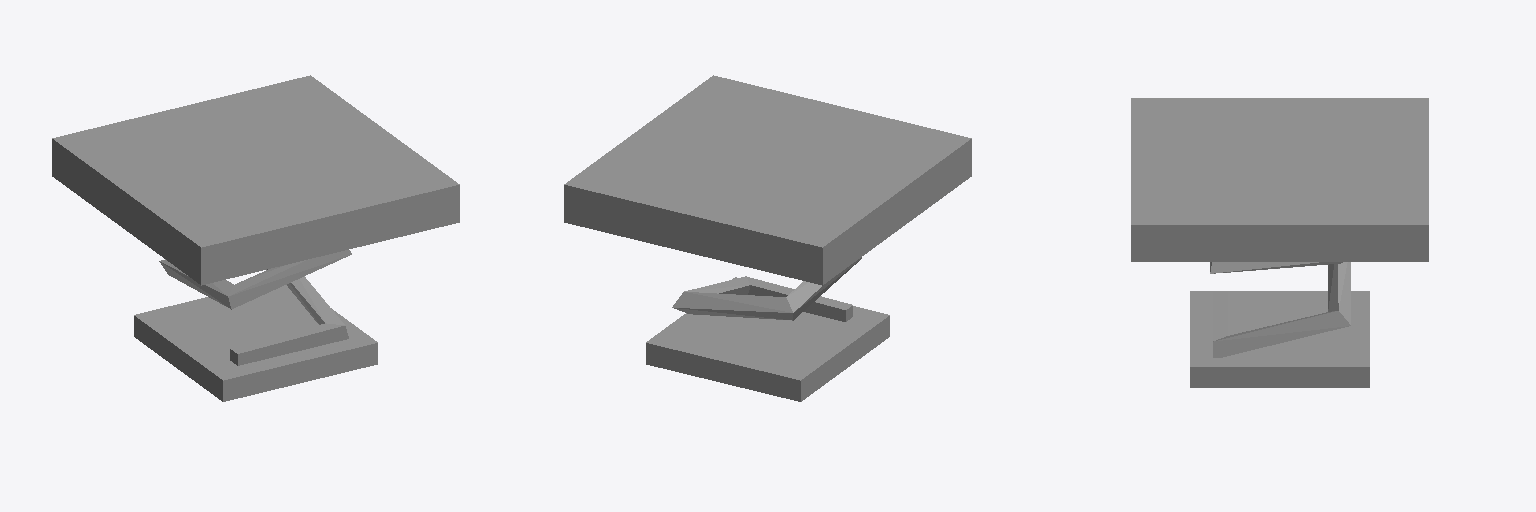
Rendered from bump_mac_fix.obj.
3 renders of one model, left to right at view 1: azimuth 30°, elevation 25°; view 2: azimuth 150°, elevation 25°; view 3: azimuth 270°, elevation 25°, orthographic.
Parts seen in each view (by area): view 1: bump_mac; view 2: bump_mac; view 3: bump_mac.
Part boxes in pixels (x1,y1,x2,y2): bump_mac: (52,75,459,401); bump_mac: (564,75,971,401); bump_mac: (1131,98,1428,387).
Size of the model in its own units: 1 by 0.6983 by 1.